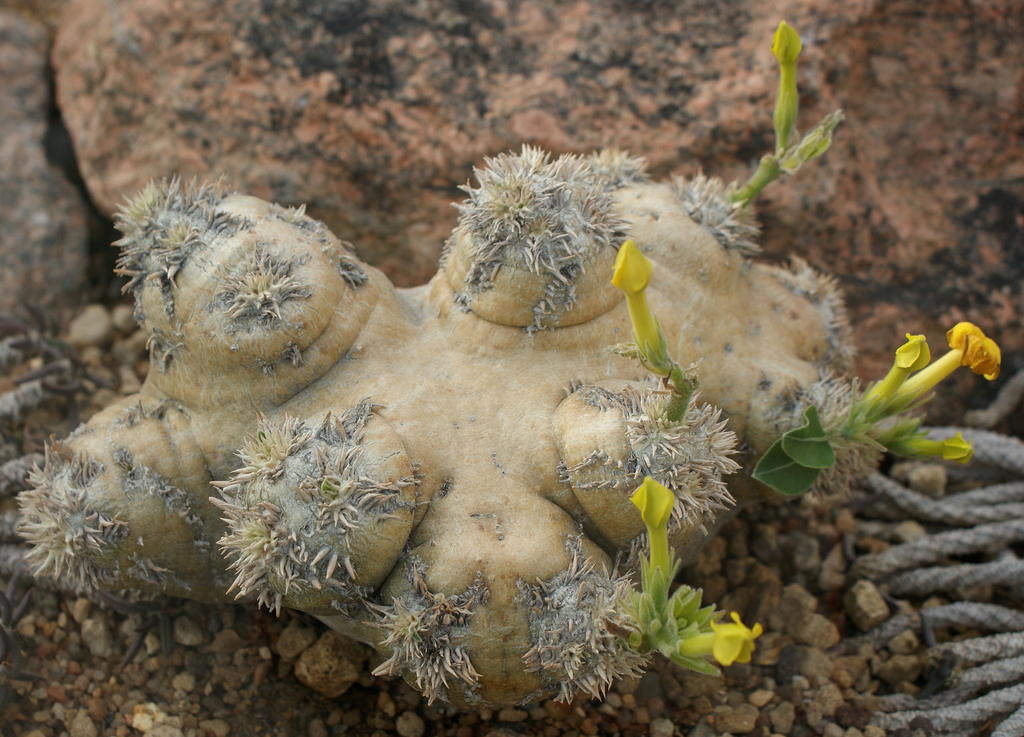Pachypodium brevicaule: (49, 175, 930, 689)
